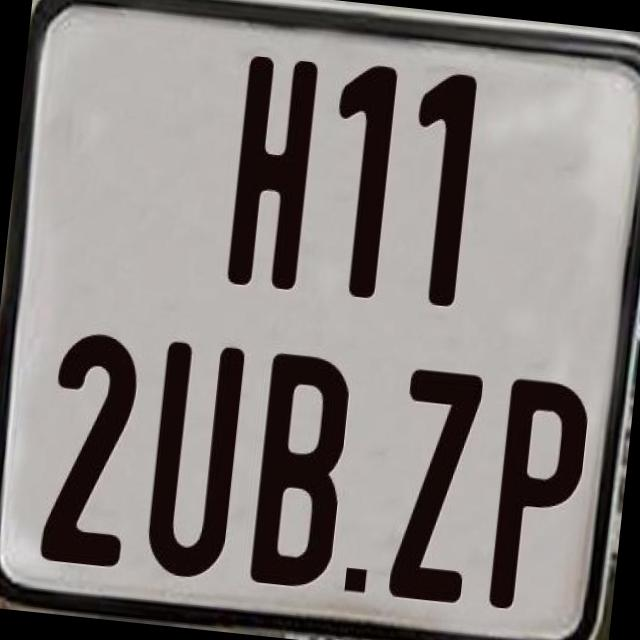1: (318, 59, 400, 298), (396, 70, 476, 307)
2: (36, 326, 140, 568)
B: (244, 346, 356, 594)
H: (225, 54, 318, 296)
P: (484, 374, 596, 620)
U: (142, 341, 250, 582)
Z: (386, 367, 484, 605)
